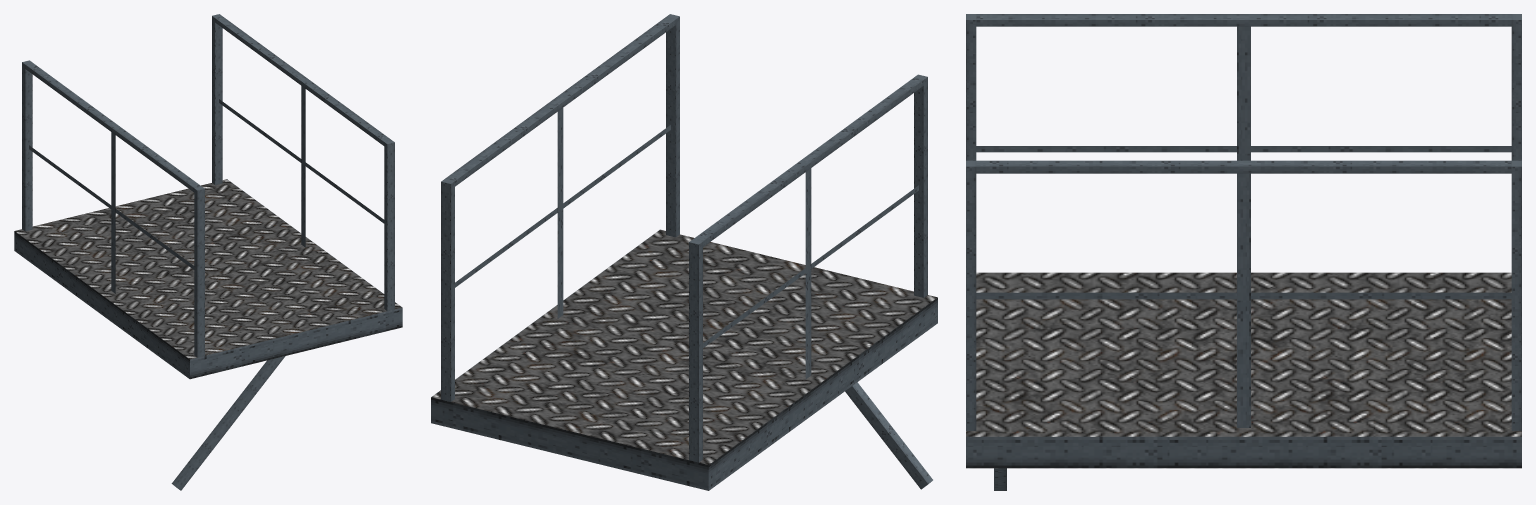
File: mMetalCatwalkFullS01.obj
3 views of the same model, side by side, from view 1: azimuth 30°, elevation 25°; view 2: azimuth 150°, elevation 25°; view 3: azimuth 270°, elevation 25° (orthographic). The views are drawn at different scales.
Visible parts, largest first — view 1: MetalCatwalkFullS01; view 2: MetalCatwalkFullS01; view 3: MetalCatwalkFullS01.
Boxes of the visible parts, x1,y1,x2,y2 form: MetalCatwalkFullS01: (14, 14, 402, 490); MetalCatwalkFullS01: (431, 14, 937, 490); MetalCatwalkFullS01: (966, 14, 1521, 490).
Bounding box in the file's own units: 2.87 × 3.83 × 4.
